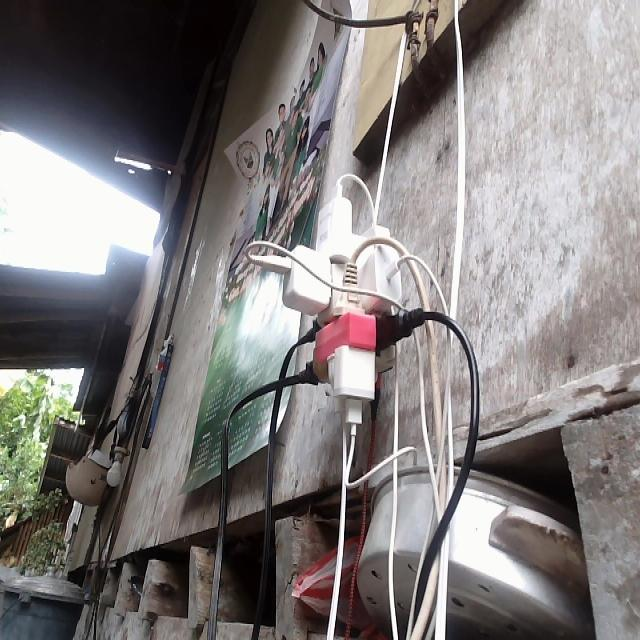-: (270, 184, 414, 427)
